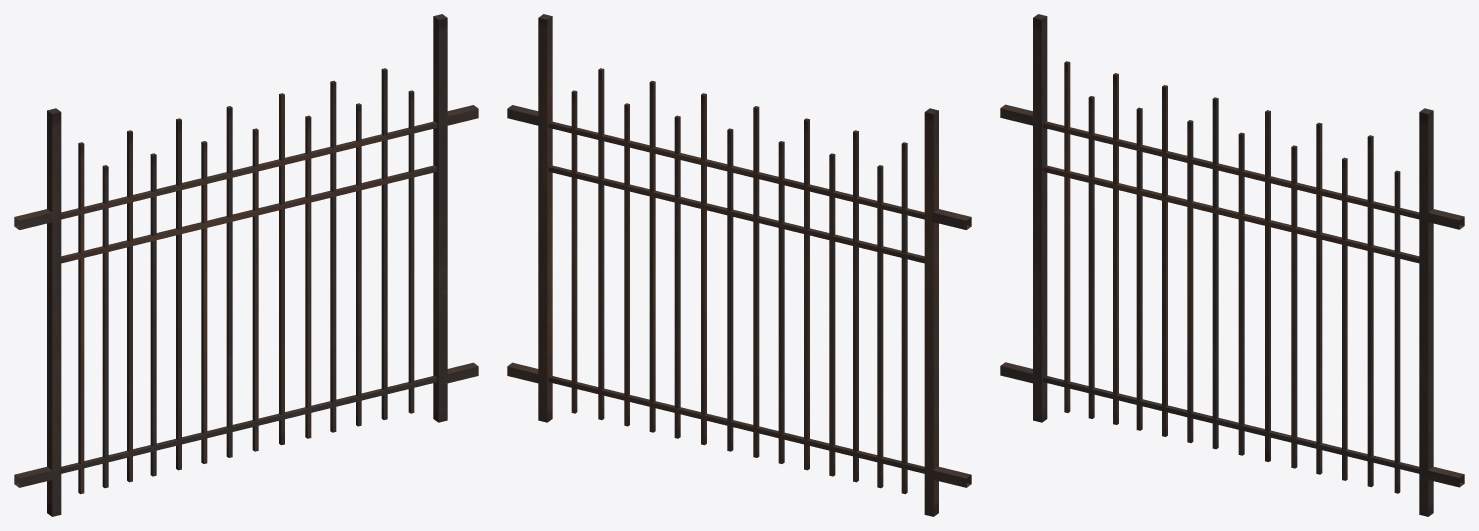
Rendered from fence.fbx.
3 renders of one model, left to right at view 1: azimuth 30°, elevation 25°; view 2: azimuth 150°, elevation 25°; view 3: azimuth 330°, elevation 25°, orthographic.
Visible parts, largest first — view 1: steamsquad_fencing; view 2: steamsquad_fencing; view 3: steamsquad_fencing.
Boxes of the visible parts, bbox=[...] form: steamsquad_fencing: bbox=[14, 14, 478, 516]; steamsquad_fencing: bbox=[507, 14, 971, 516]; steamsquad_fencing: bbox=[1000, 14, 1464, 516].
Size of the model in its own units: 4.54 by 3.8 by 0.089.
